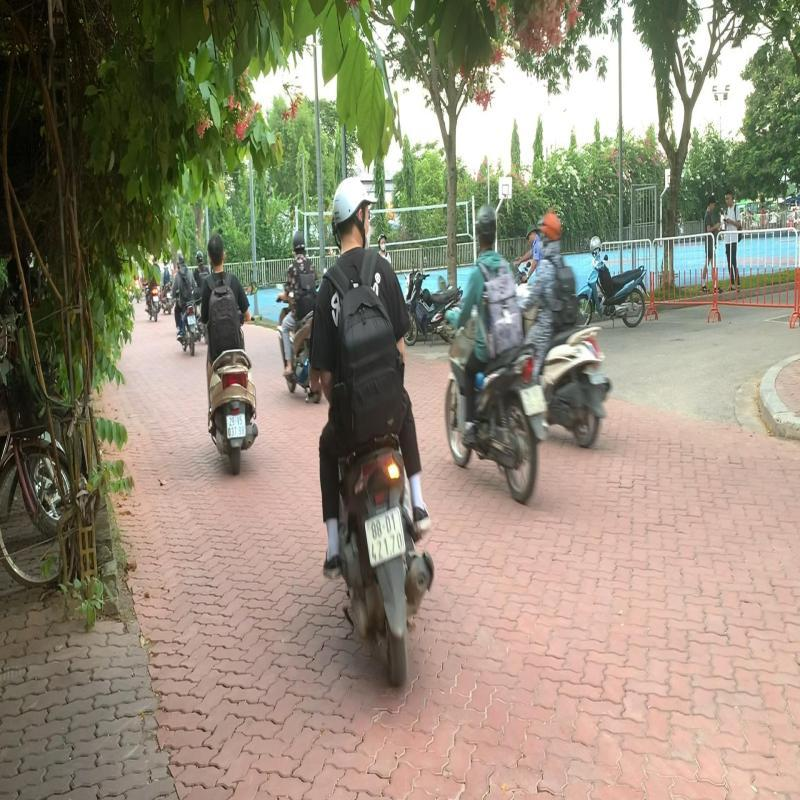nohelmet: (206, 231, 227, 268)
